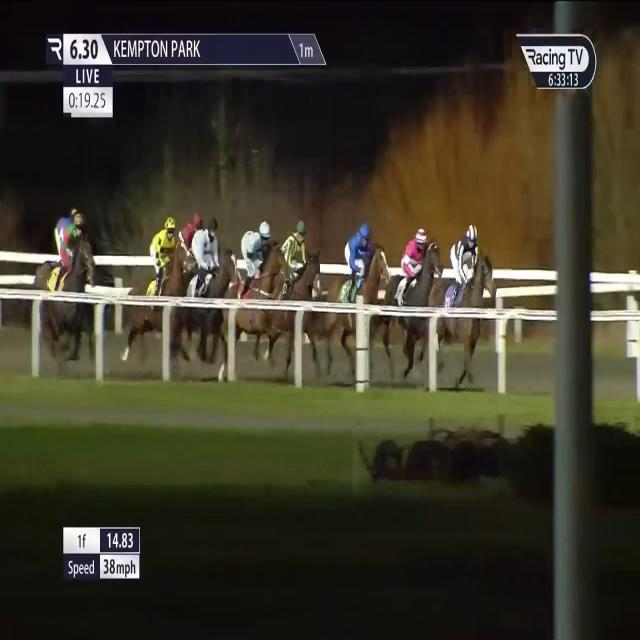horses-racing: (28, 220, 112, 356), (442, 208, 496, 370), (175, 211, 226, 364), (393, 220, 441, 352), (220, 208, 276, 321), (138, 214, 184, 338), (339, 214, 379, 345), (282, 207, 319, 328), (41, 202, 81, 276), (165, 206, 207, 275)
